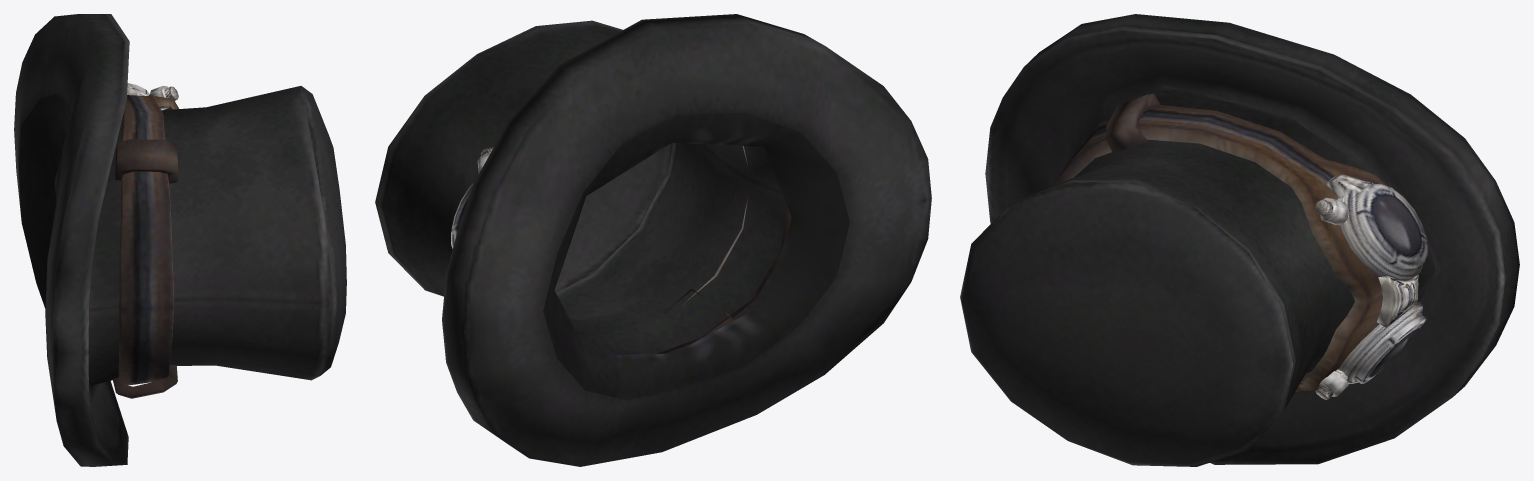
The model's file is M_SteampunkTopHat.fbx.
3 renders of one model, left to right at view 1: azimuth 30°, elevation 25°; view 2: azimuth 150°, elevation 25°; view 3: azimuth 270°, elevation 25°, orthographic. The views are drawn at different scales.
Visible parts, largest first — view 1: 24_hat_0.1_0_0.001; view 2: 24_hat_0.1_0_0.001; view 3: 24_hat_0.1_0_0.001.
Boxes of the visible parts, x1=… form: 24_hat_0.1_0_0.001: x1=14, y1=14, x2=346, y2=466; 24_hat_0.1_0_0.001: x1=375, y1=14, x2=931, y2=466; 24_hat_0.1_0_0.001: x1=960, y1=14, x2=1519, y2=466.
Bounding box in the file's own units: 0.1989 × 0.1921 × 0.227.
